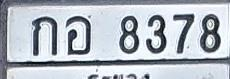3: (146, 14, 166, 53)
7: (172, 13, 194, 54)
8: (200, 13, 220, 52), (119, 16, 139, 54)
A01: (31, 16, 58, 56)
A43: (65, 15, 91, 54)
